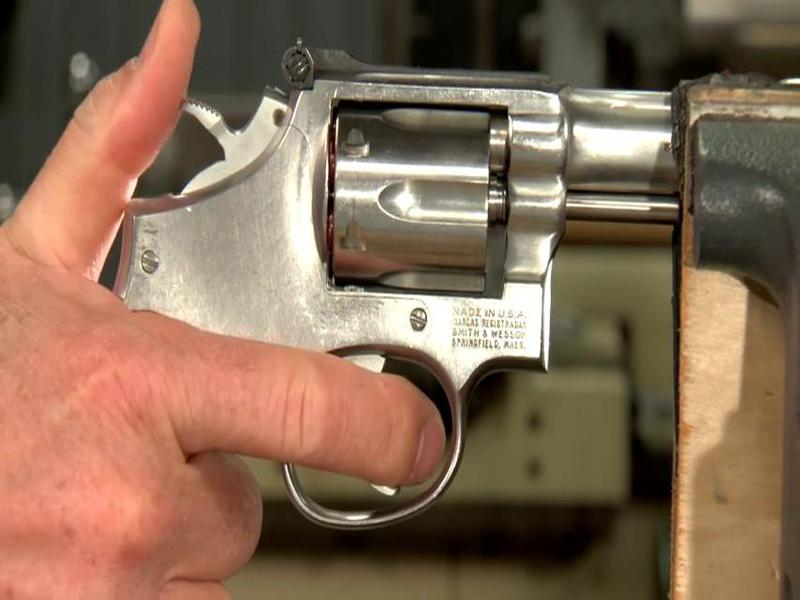Revolver: (113, 24, 674, 557)
